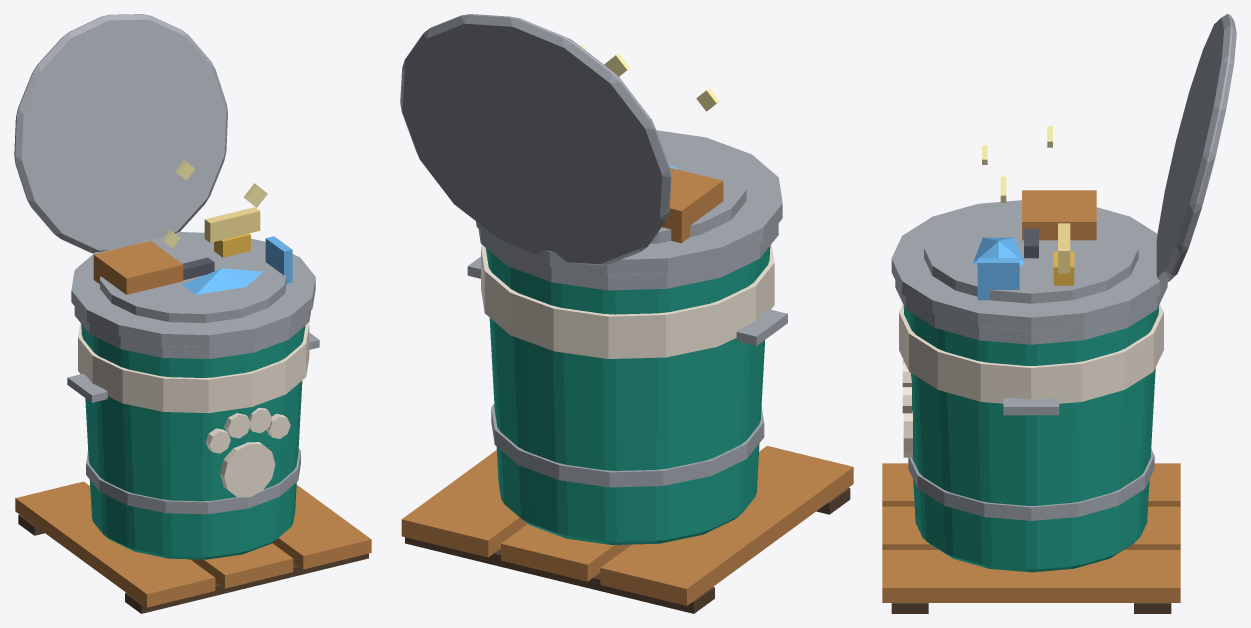
File: CatCafe_Camp_Alley_RummageBin.glb
The picture shows the model from 3 angles, left to right: view 1: azimuth 30°, elevation 25°; view 2: azimuth 150°, elevation 25°; view 3: azimuth 270°, elevation 25°; orthographic projection. The views are drawn at different scales.
Visible parts, largest first — view 1: CatCafe_Camp_Alley_RummageBin, CatCafe_Camp_Alley_RummageBin_Ready, CatCafe_Camp_Alley_RummageBin_Empty; view 2: CatCafe_Camp_Alley_RummageBin, CatCafe_Camp_Alley_RummageBin_Ready, CatCafe_Camp_Alley_RummageBin_Empty; view 3: CatCafe_Camp_Alley_RummageBin, CatCafe_Camp_Alley_RummageBin_Empty, CatCafe_Camp_Alley_RummageBin_Ready.
Boxes of the visible parts, box(x1,y1,x2,y2) form: CatCafe_Camp_Alley_RummageBin: box(15, 307, 371, 613); CatCafe_Camp_Alley_RummageBin_Ready: box(14, 14, 292, 294); CatCafe_Camp_Alley_RummageBin_Empty: box(71, 232, 315, 346); CatCafe_Camp_Alley_RummageBin: box(401, 224, 853, 613); CatCafe_Camp_Alley_RummageBin_Ready: box(400, 14, 723, 265); CatCafe_Camp_Alley_RummageBin_Empty: box(476, 130, 782, 275); CatCafe_Camp_Alley_RummageBin: box(882, 280, 1180, 613); CatCafe_Camp_Alley_RummageBin_Empty: box(891, 200, 1165, 330); CatCafe_Camp_Alley_RummageBin_Ready: box(973, 14, 1236, 300).
Bounding box in the file's own units: 3.2 × 6.19 × 3.8.
1 material, 1 textured.
